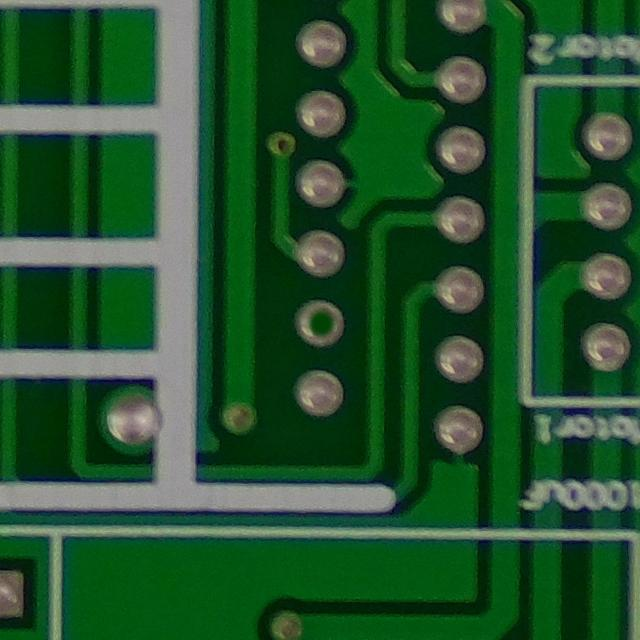missing_hole: (291, 288, 350, 352)
